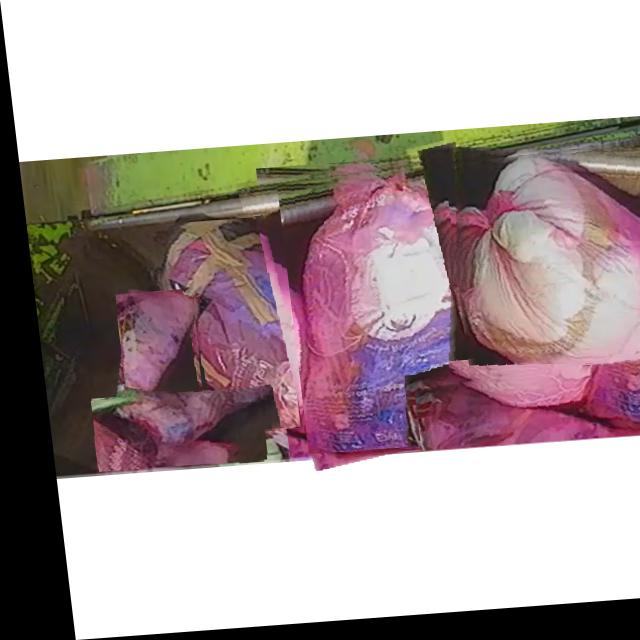other_trashbag: (293, 176, 511, 458), (450, 163, 640, 405), (156, 222, 289, 433), (405, 387, 640, 456), (83, 395, 249, 464), (112, 294, 186, 411)
